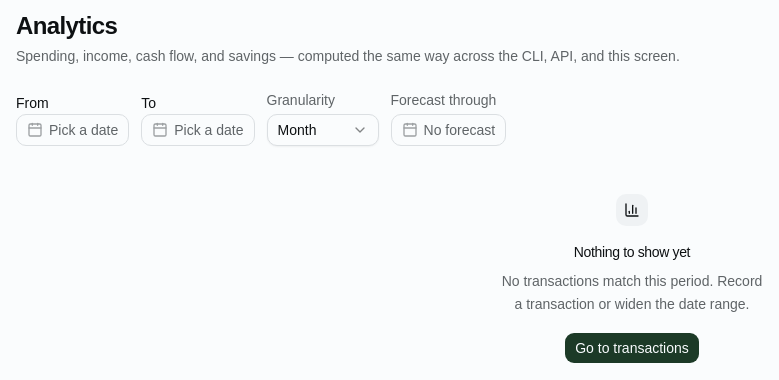
Scenario: AnalyticsPage › granularity selector › holds off fetching a custom range until both dates are set
The width and height of the screenshot is (779, 380).
Check: the text "Nothing to show yet" is shown, box [574,242,690,262]
Click the dropdown named "Granularity": (322, 130) [266,114,378,146]
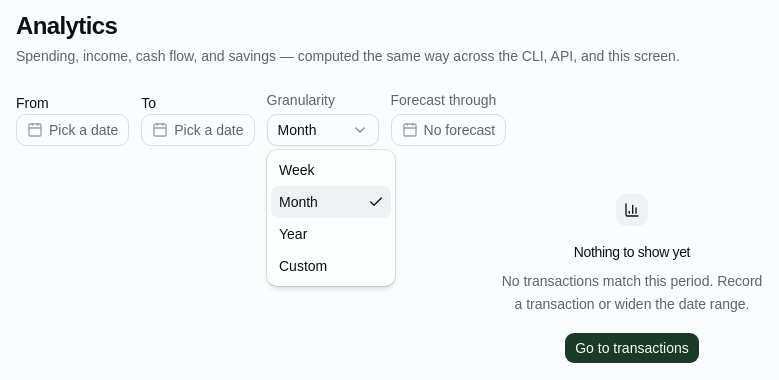
Click the option "Custom": (303, 266) [279,258,327,274]
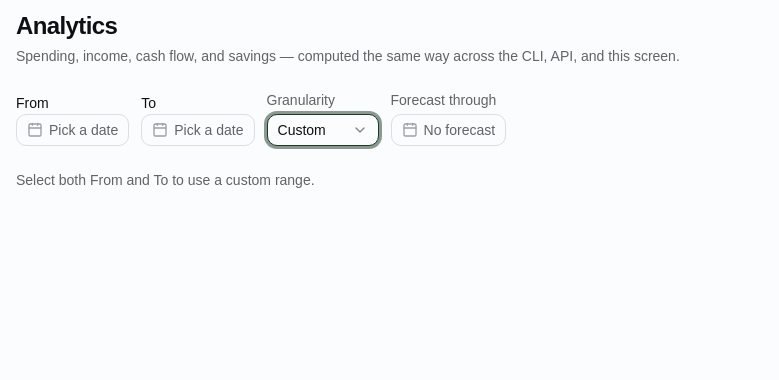
Check: the text "Select both From and To to use a custom range." is shown, box [16,172,315,188]
